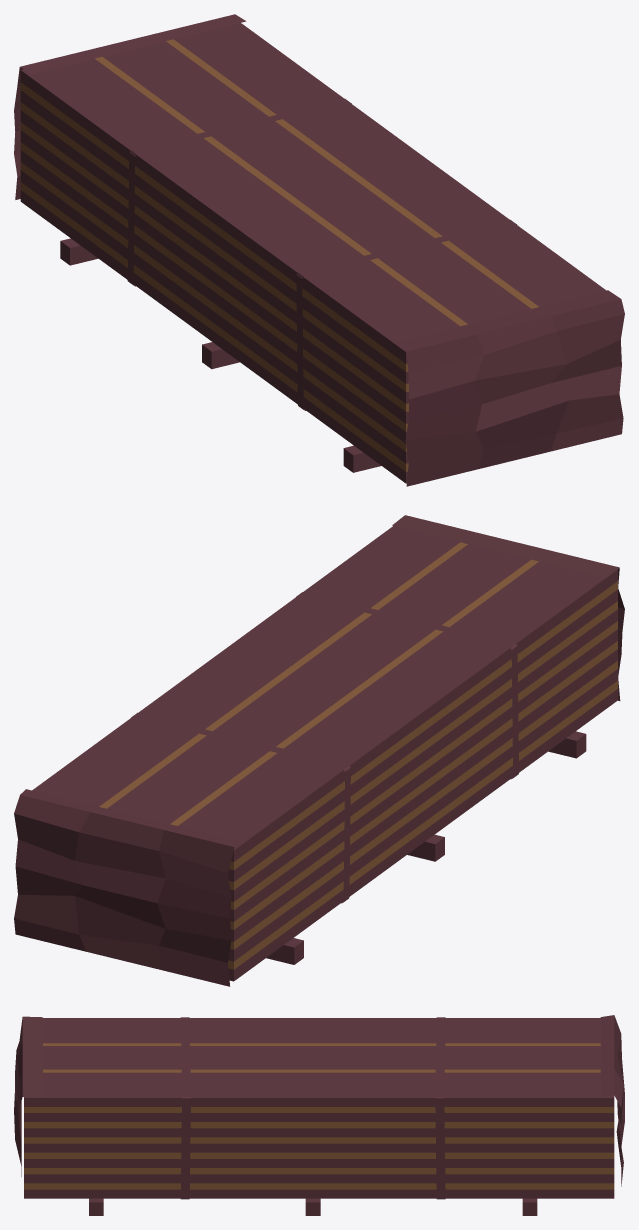
Rendered from planks-stack.fbx.
The picture shows the model from 3 angles, top to bottom: view 1: azimuth 30°, elevation 25°; view 2: azimuth 150°, elevation 25°; view 3: azimuth 270°, elevation 25°; orthographic projection. The views are drawn at different scales.
Visible parts, largest first — view 1: planks-stack; view 2: planks-stack; view 3: planks-stack.
Part boxes in pixels (x1,y1,x2,y2): planks-stack: (14,14,624,486); planks-stack: (14,515,624,986); planks-stack: (14,1015,624,1215).
Bounding box in the file's own units: 1.76 × 1.09 × 5.18.
